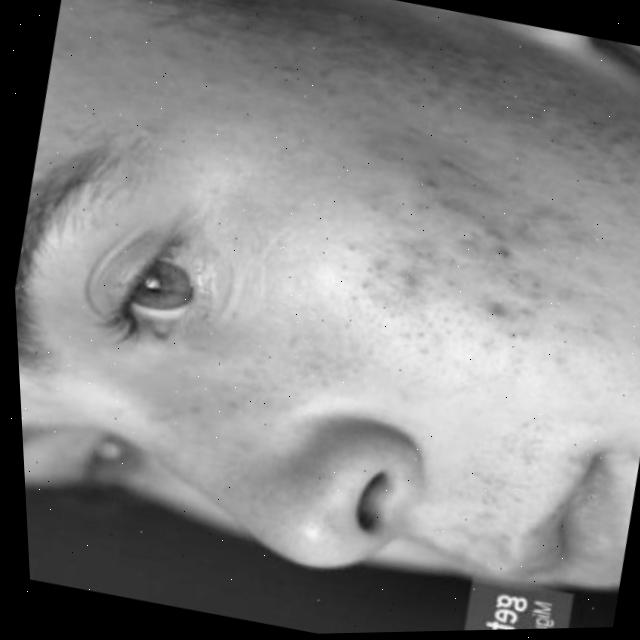Acne: (337, 127, 640, 368)
